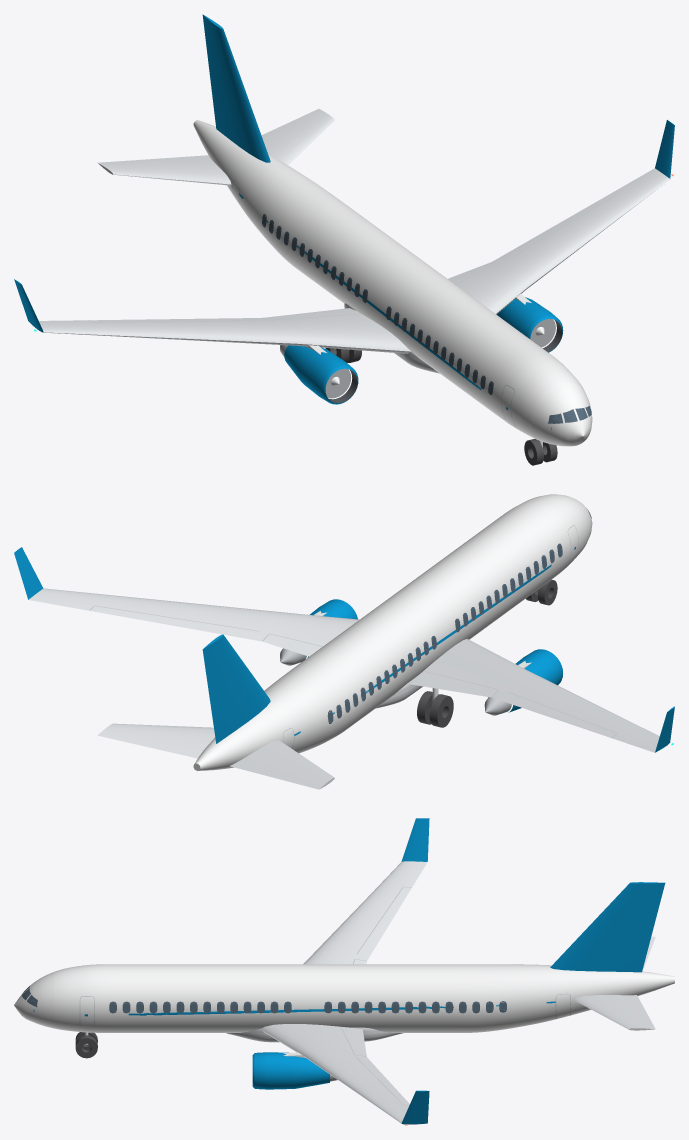
Rendered from plane-airliner.glb.
3 views of the same model, one above another, from view 1: azimuth 30°, elevation 25°; view 2: azimuth 150°, elevation 25°; view 3: azimuth 270°, elevation 25° (orthographic). The views are drawn at different scales.
Visible parts, largest first — view 1: plane-airliner; view 2: plane-airliner; view 3: plane-airliner.
Part boxes in pixels (box(x1,y1,x2,y2)): plane-airliner: box(14, 14, 674, 465); plane-airliner: box(14, 494, 674, 789); plane-airliner: box(14, 818, 674, 1125).
Bounding box in the file's own units: 36.74 × 10.75 × 37.6.
